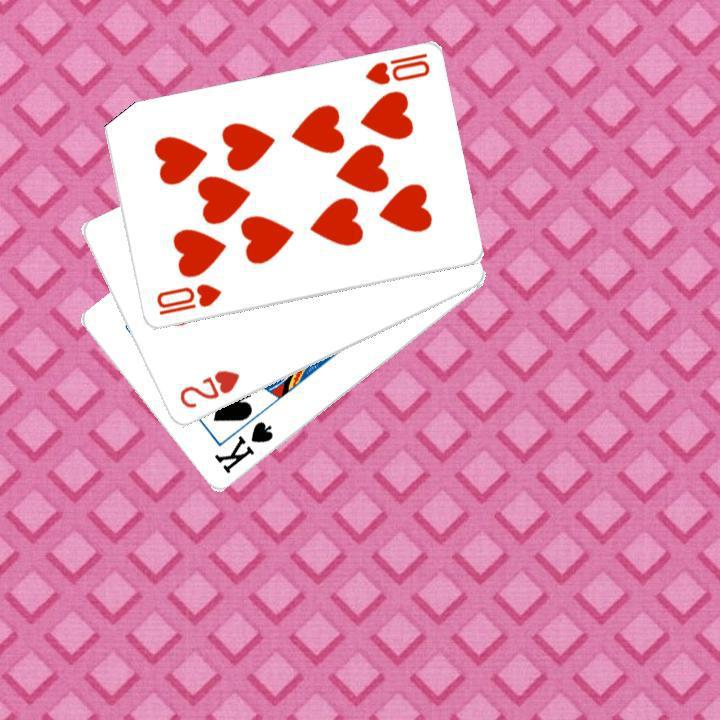10: (360, 49, 431, 88), (151, 280, 223, 318)
2: (175, 366, 242, 411)
K: (210, 417, 276, 477)
